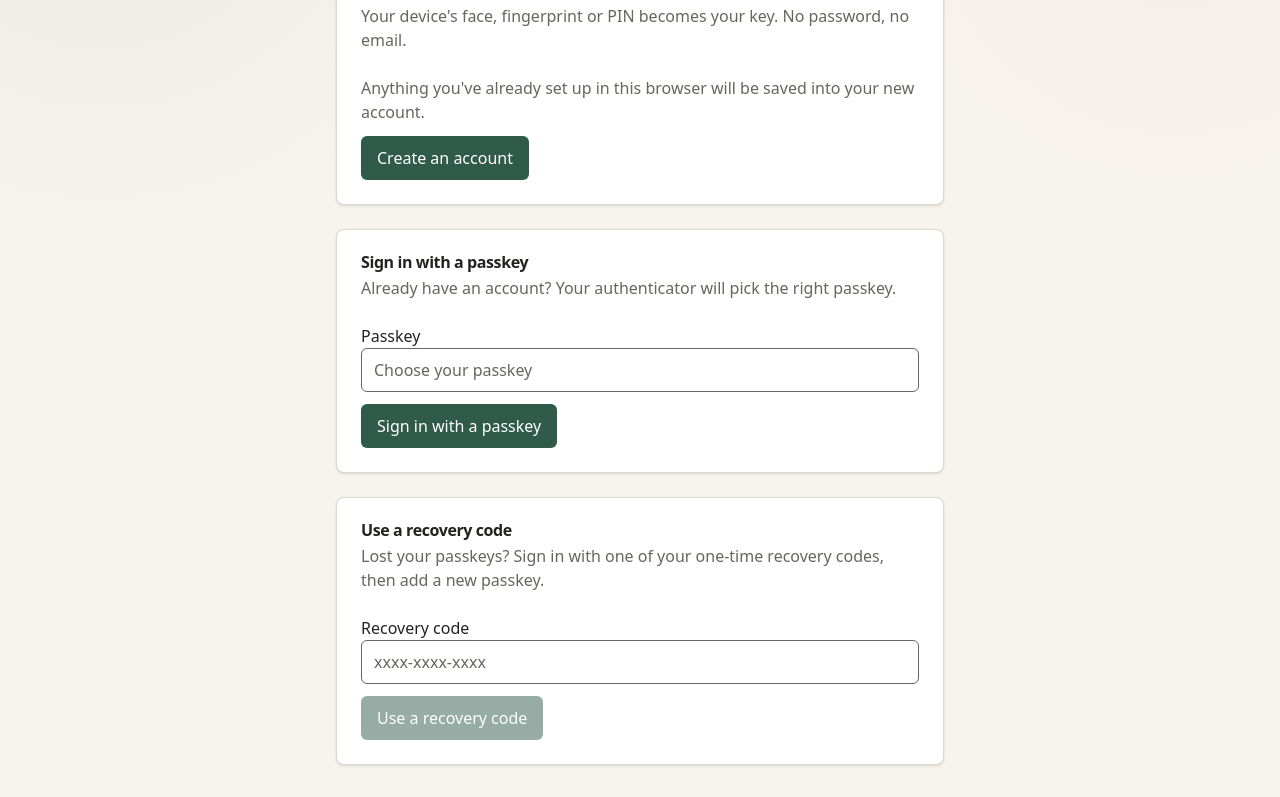
Scenario: AccountClient › recovery flow: submit -> recover -> lands on the add-a-passkey-now nudge
(page scrolled)
Type "MY-CODE-123" into the field labelled "Recovery code" at [640, 662], box 361,640 -> 919,684
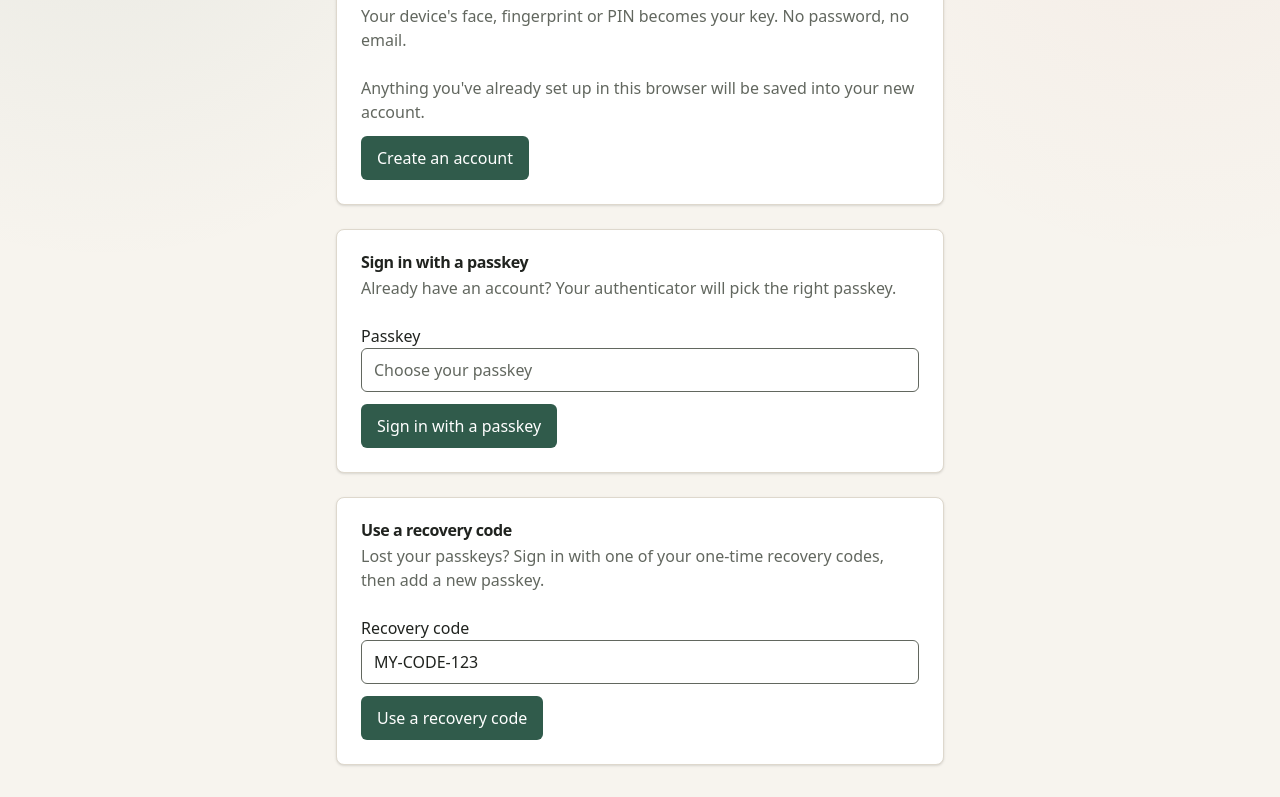
Click the button "Use a recovery code" at [452, 718], box 361,696 -> 543,740
(page scrolled)
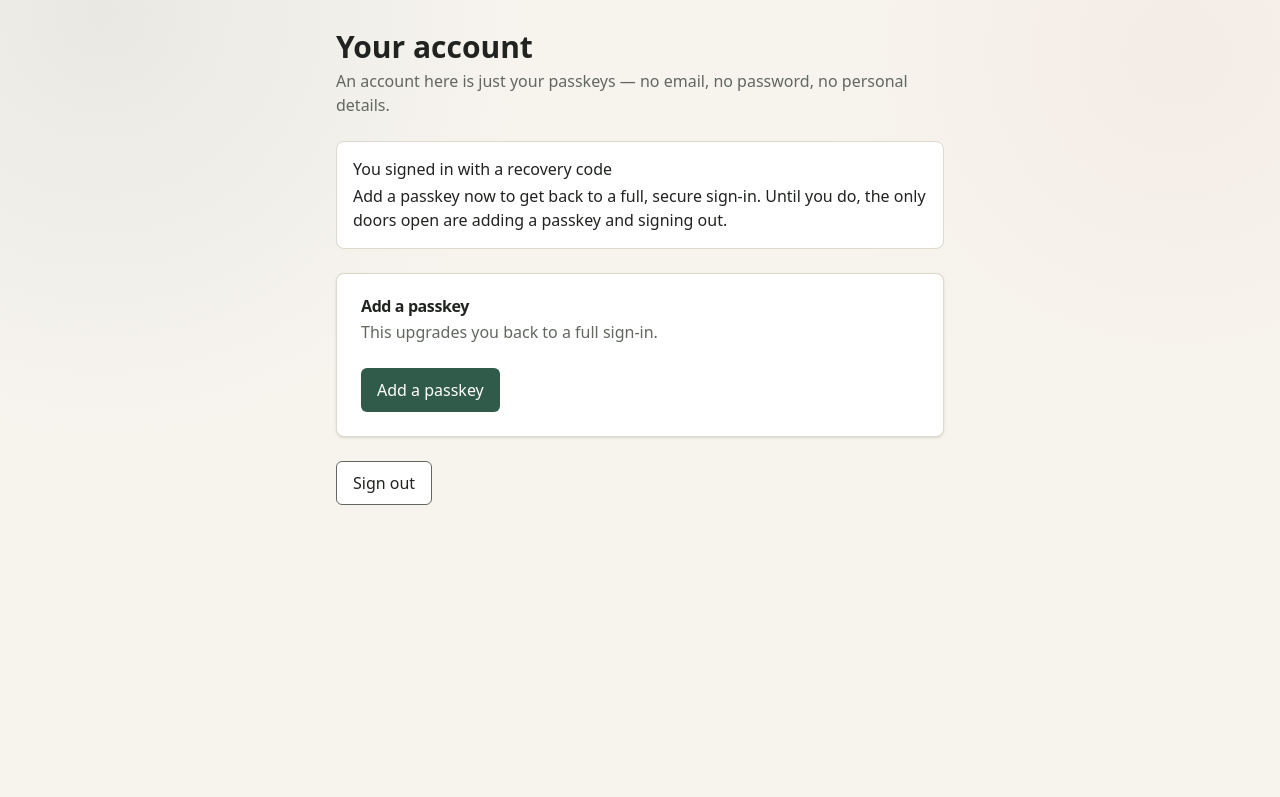
Expected: the text "Add a passkey now" is shown, 353,185 -> 926,231
